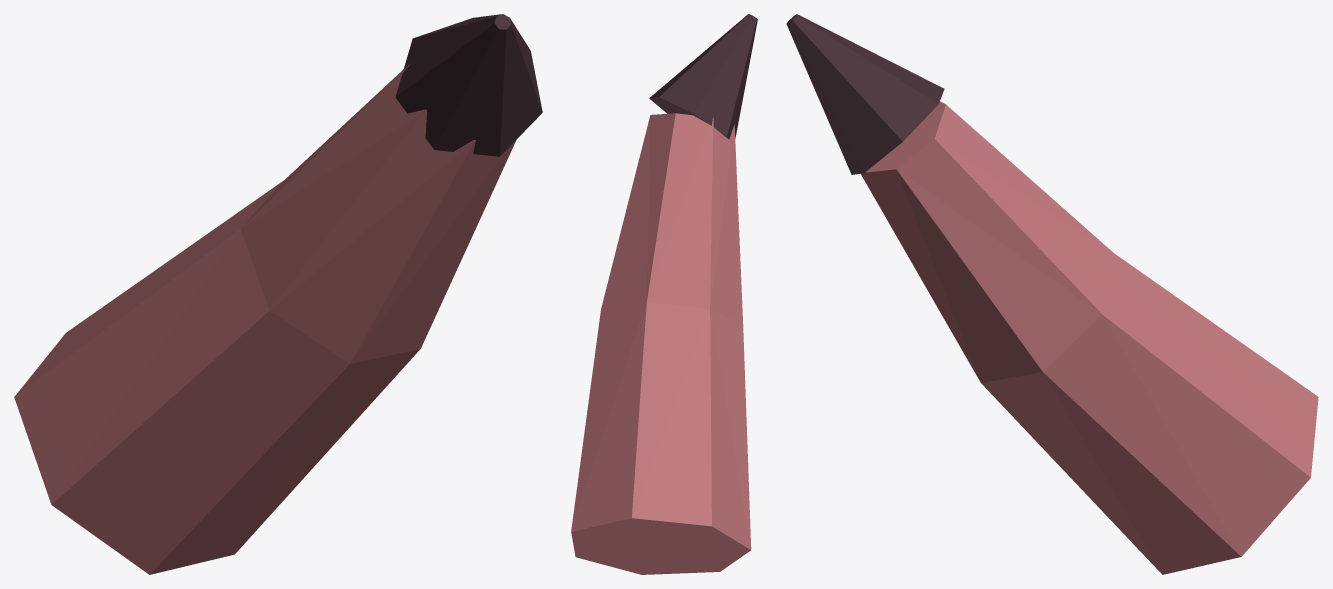
Rendered from bulbfreak_appendage_4.obj.
3 renders of one model, left to right at view 1: azimuth 30°, elevation 25°; view 2: azimuth 150°, elevation 25°; view 3: azimuth 270°, elevation 25°, orthographic. The views are drawn at different scales.
Parts seen in each view (by area): view 1: bulbfreak_appendage_4; view 2: bulbfreak_appendage_4; view 3: bulbfreak_appendage_4.
Part boxes in pixels (x1=…): bulbfreak_appendage_4: x1=14, y1=14, x2=542, y2=574; bulbfreak_appendage_4: x1=571, y1=14, x2=757, y2=574; bulbfreak_appendage_4: x1=786, y1=14, x2=1318, y2=574.
Size of the model in its own units: 0.3761 by 0.7759 by 0.6444.
